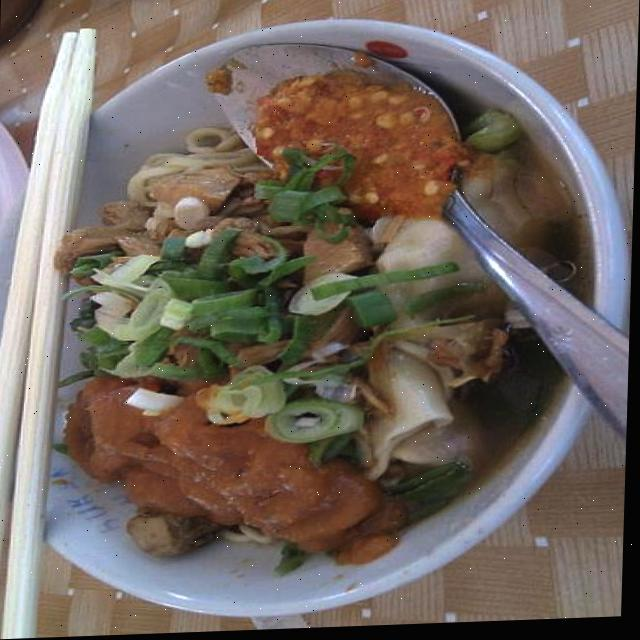面条主食: (2, 35, 595, 590)
